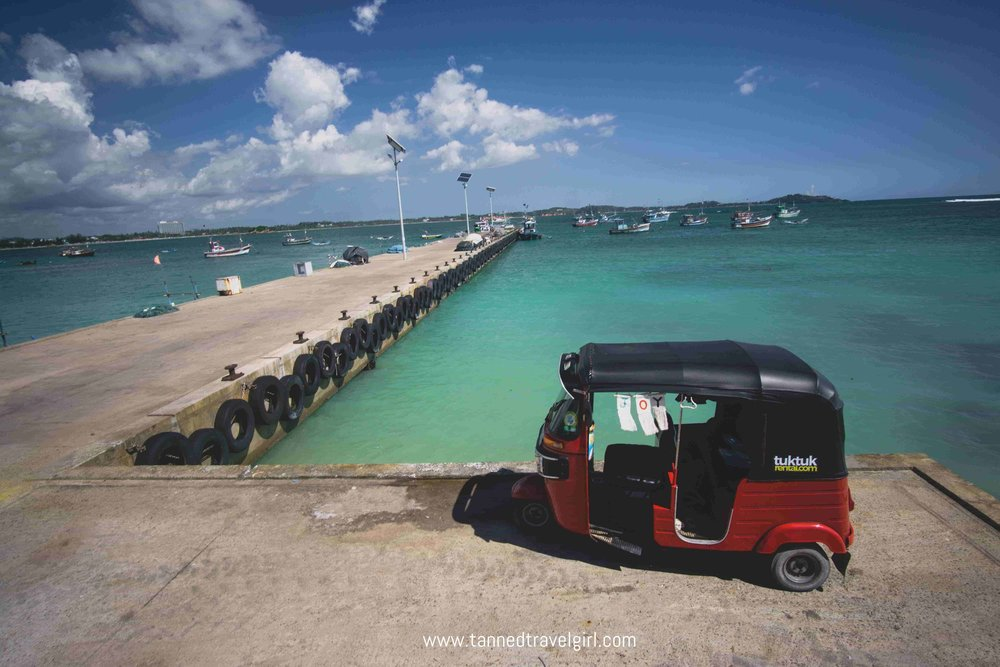tuk tuk: (506, 338, 864, 595)
